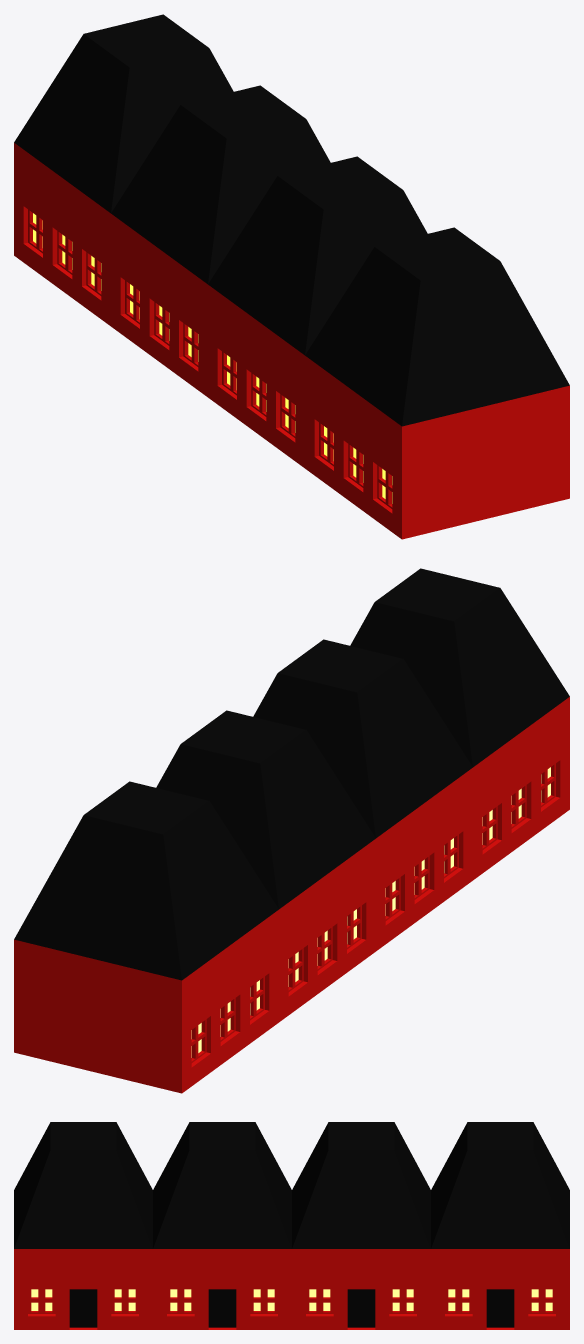
File: bungalows_3(4).fbx
3 views of the same model, one above another, from view 1: azimuth 30°, elevation 25°; view 2: azimuth 150°, elevation 25°; view 3: azimuth 270°, elevation 25° (orthographic). The views are drawn at different scales.
Parts seen in each view (by area): view 1: Cube; view 2: Cube; view 3: Cube.
Boxes of the visible parts, <box> form: Cube: <box>14,14,569,539</box>; Cube: <box>14,568,569,1093</box>; Cube: <box>14,1122,569,1329</box>.
Size of the model in its own units: 28 by 36.56 by 112.
